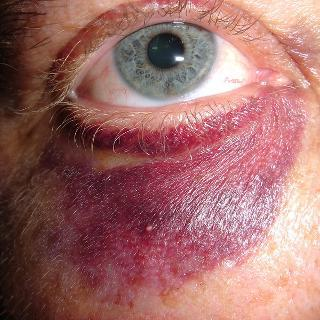pupil: (145, 30, 185, 70)
